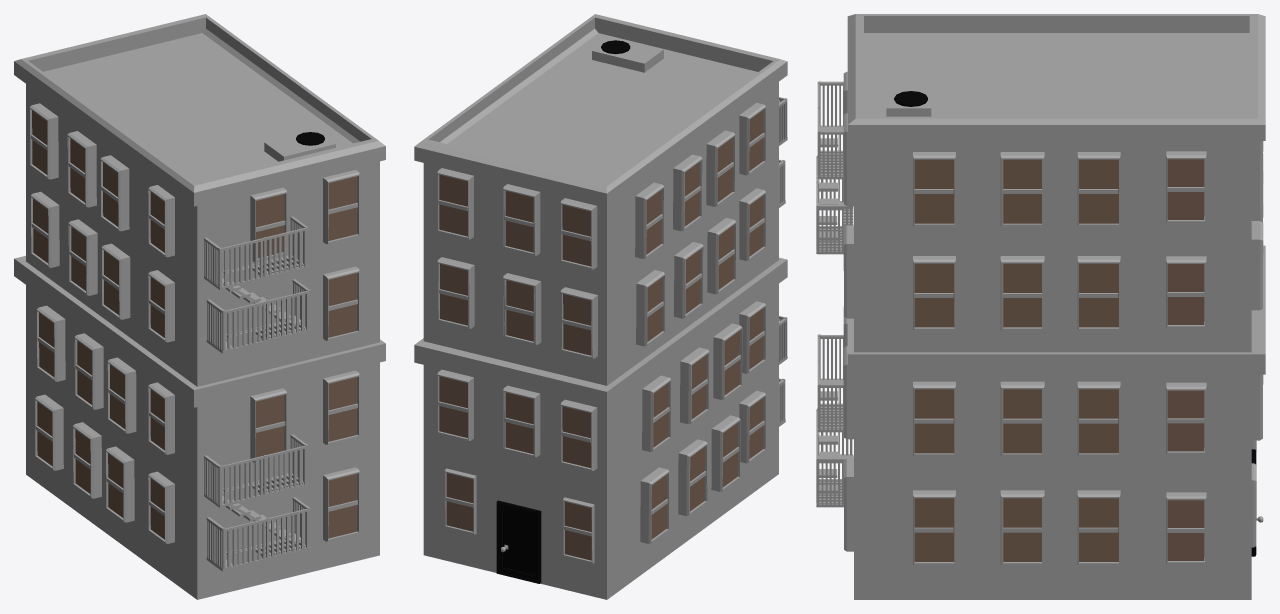
File: Apartments2.fbx
3 views of the same model, side by side, from view 1: azimuth 30°, elevation 25°; view 2: azimuth 150°, elevation 25°; view 3: azimuth 270°, elevation 25° (orthographic). The views are drawn at different scales.
Visible parts, largest first — view 1: pCube237, pCube239, pCube236, polySurface396, polySurface398, polySurface397, polySurface390, polySurface104, polySurface347, pCube240, pCube265, polySurface400 (+10 smaller); view 2: pCube237, pCube239, pCube236, polySurface393, polySurface392, polySurface390, polySurface394, polySurface397, polySurface396, polySurface398, polySurface413, pSphere14 (+7 smaller); view 3: pCube237, pCube239, pCube236, polySurface391, polySurface387, polySurface395, polySurface389, polySurface404, polySurface407, polySurface405, polySurface406, polySurface104 (+11 smaller).
Boxes of the visible parts, x1,y1,x2,y2 form: pCube237: (26,84,379,599); pCube239: (14,14,385,206); pCube236: (14,256,385,407); polySurface396: (36,305,136,433); polySurface398: (30,191,130,319); polySurface397: (29,103,129,231); polySurface390: (35,394,134,522); polySurface104: (206,279,310,353); polySurface347: (206,497,310,571); pCube240: (204,216,308,289); pCube265: (204,434,308,507); polySurface400: (323,370,359,444); pCube237: (423,82,778,599); pCube239: (414,14,787,207); pCube236: (414,257,787,409); polySurface393: (437,168,597,269); polySurface392: (437,369,597,470); polySurface390: (640,415,740,543); polySurface394: (437,257,596,358); polySurface397: (635,130,735,258); polySurface396: (642,323,742,451); polySurface398: (636,218,736,346); polySurface413: (438,257,597,358); pSphere14: (496,500,541,583); pCube237: (854,141,1251,599); pCube239: (847,14,1265,140); pCube236: (847,245,1265,374); polySurface391: (913,490,1120,564); polySurface387: (913,152,1120,226); polySurface395: (913,381,1120,455); polySurface389: (913,256,1120,329); polySurface404: (1166,492,1206,563); polySurface407: (1166,151,1206,222); polySurface405: (1166,256,1206,327); polySurface406: (1166,382,1206,453); polySurface104: (816,126,853,254).
Size of the model in its own units: 29.54 by 55.8 by 47.24.
